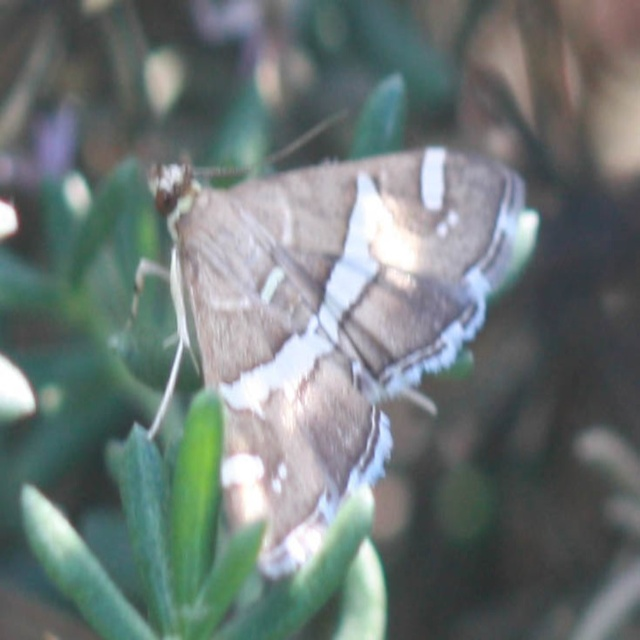Butterfly: (119, 112, 536, 565)
